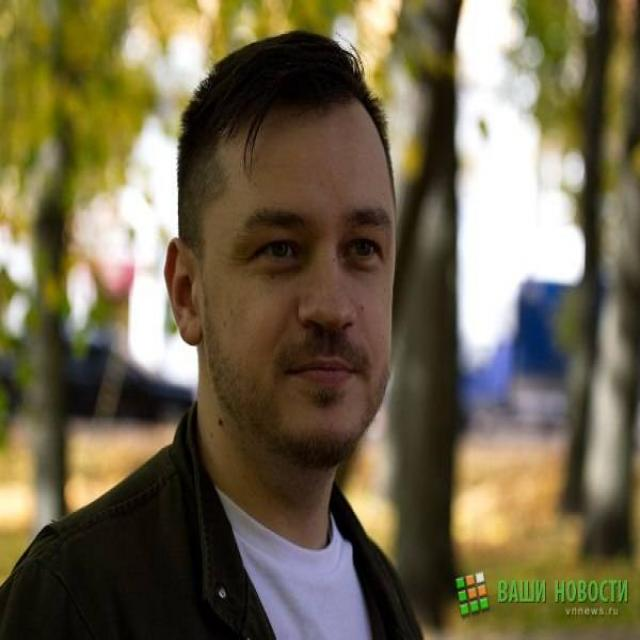earlobe: (163, 238, 204, 346)
